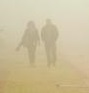person: (15, 18, 42, 67), (41, 17, 59, 68)
